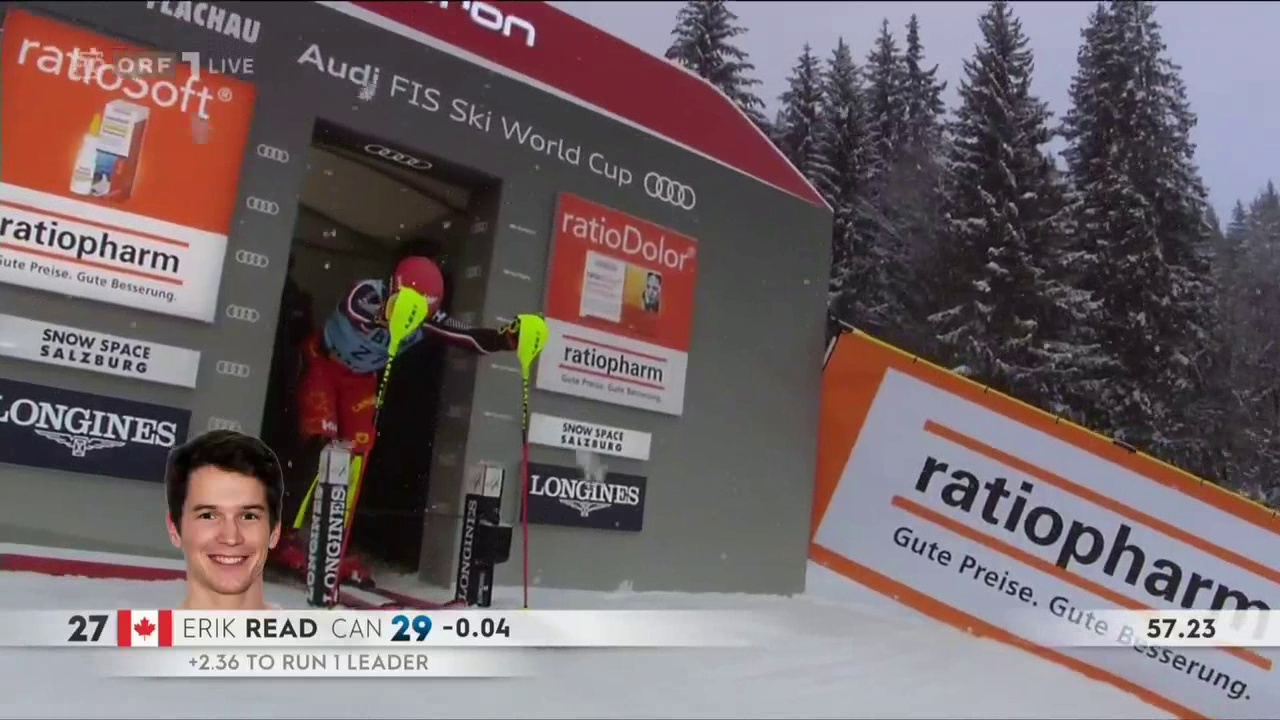audi: (646, 172, 701, 213), (365, 146, 435, 174), (244, 193, 288, 221), (253, 143, 296, 171), (224, 302, 268, 328), (234, 248, 277, 274), (213, 359, 256, 383), (204, 415, 245, 437), (461, 266, 491, 283)
flachau: (146, 3, 261, 44)
longines: (2, 393, 179, 477), (528, 476, 645, 532), (307, 490, 349, 607)
ratiopharm: (2, 189, 199, 302), (557, 337, 677, 399)
